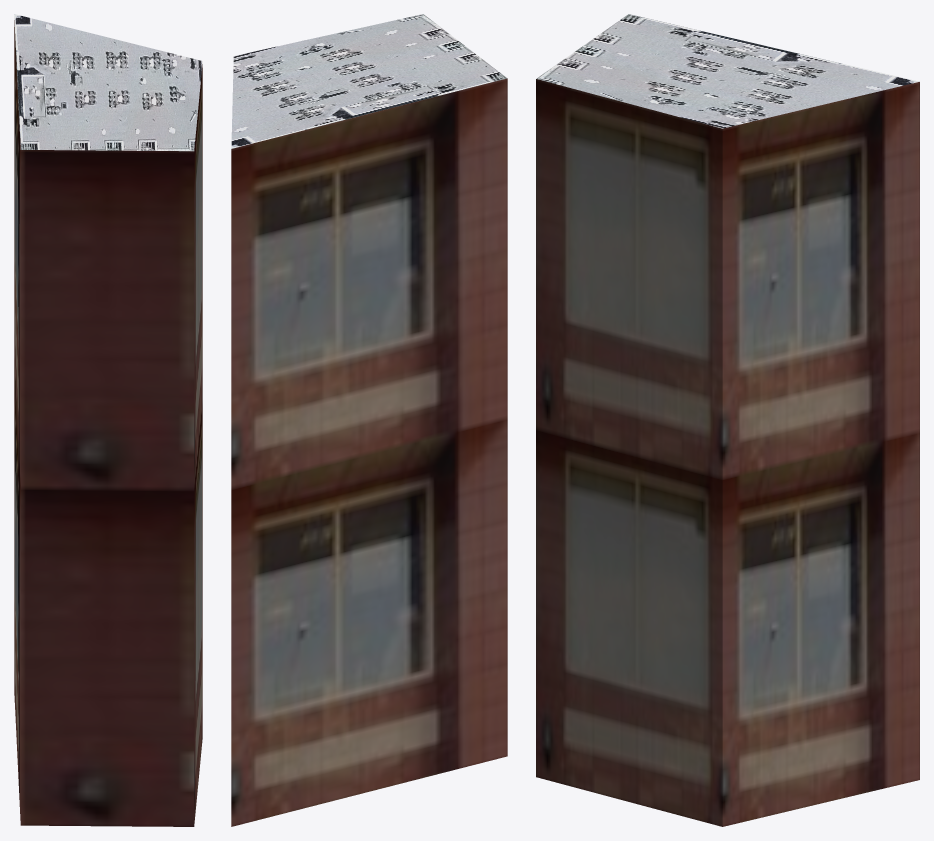
File: ResTex__2997.fbx
3 views of the same model, side by side, from view 1: azimuth 30°, elevation 25°; view 2: azimuth 150°, elevation 25°; view 3: azimuth 270°, elevation 25° (orthographic). The views are drawn at different scales.
Visible parts, largest first — view 1: CityEngineMaterial_13_m, CityEngineMaterial_2_m; view 2: CityEngineMaterial_13_m, CityEngineMaterial_2_m; view 3: CityEngineMaterial_13_m, CityEngineMaterial_2_m.
Boxes of the visible parts, box(x1,y1,x2,y2) form: CityEngineMaterial_13_m: box(14, 20, 202, 826); CityEngineMaterial_2_m: box(14, 14, 202, 151); CityEngineMaterial_13_m: box(231, 78, 507, 826); CityEngineMaterial_2_m: box(231, 14, 507, 148); CityEngineMaterial_13_m: box(536, 79, 919, 826); CityEngineMaterial_2_m: box(536, 14, 919, 128).
Size of the model in its own units: 2.11 by 6 by 2.99.
Materials: 2 (2 with a texture image).
